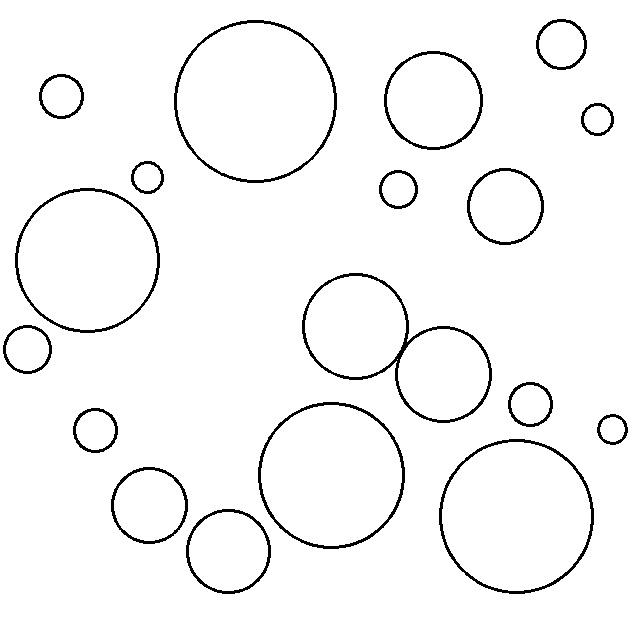circle: (171, 16, 341, 185), (436, 436, 595, 596), (256, 400, 407, 550), (11, 186, 163, 335), (300, 270, 409, 381), (382, 47, 487, 152), (392, 324, 494, 426), (184, 506, 274, 597), (465, 165, 546, 249), (109, 464, 188, 547), (533, 16, 590, 72), (3, 322, 55, 376), (70, 404, 121, 455), (36, 71, 87, 121), (506, 379, 555, 430), (376, 165, 420, 211), (578, 99, 617, 139), (129, 157, 167, 196), (594, 410, 630, 449)
